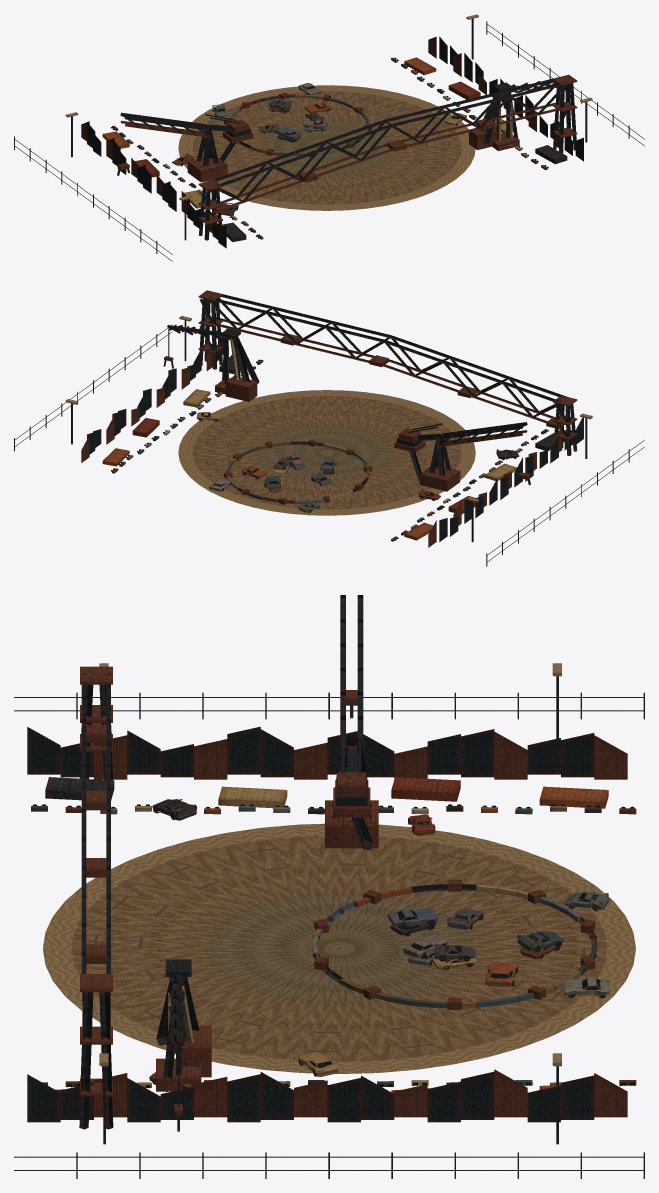
The model's file is yard.glb.
3 views of the same model, one above another, from view 1: azimuth 30°, elevation 25°; view 2: azimuth 150°, elevation 25°; view 3: azimuth 270°, elevation 25° (orthographic). The views are drawn at different scales.
Parts seen in each view (by area): view 1: Dirt loop and strata, Yard scaffold and barriers, Stacked wreck silhouettes; view 2: Dirt loop and strata, Yard scaffold and barriers, Stacked wreck silhouettes; view 3: Dirt loop and strata, Yard scaffold and barriers, Stacked wreck silhouettes.
Part boxes in pixels (<box>): Dirt loop and strata: <box>178,85,475,210</box>; Yard scaffold and barriers: <box>14,14,644,261</box>; Stacked wreck silhouettes: <box>102,57,567,241</box>; Dirt loop and strata: <box>178,390,475,515</box>; Yard scaffold and barriers: <box>14,290,644,566</box>; Stacked wreck silhouettes: <box>102,355,564,540</box>; Dirt loop and strata: <box>43,823,635,1073</box>; Yard scaffold and barriers: <box>14,595,644,1178</box>; Stacked wreck silhouettes: <box>32,777,634,1093</box>.
Bounding box in the file's own units: 264 × 42.76 × 153.
Materials: 3 (3 with a texture image).
